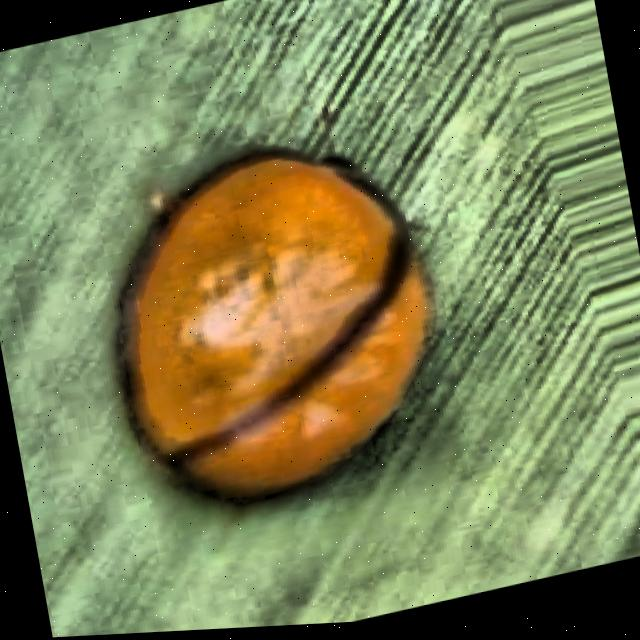Ladybug: (13, 38, 557, 603)
